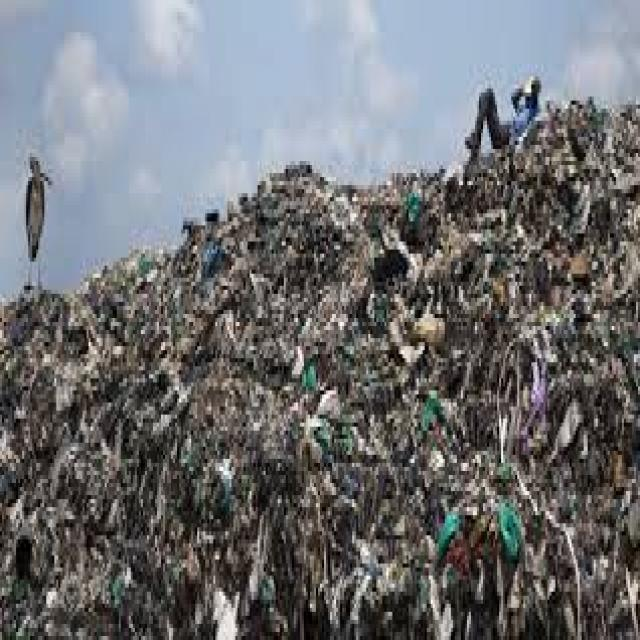heap: (398, 226, 619, 640)
